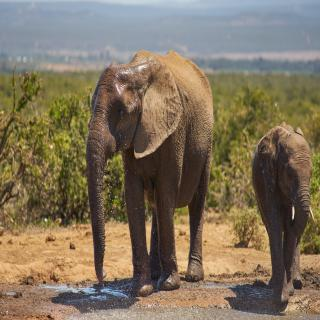Elephant: (84, 37, 215, 303), (251, 115, 320, 318)
